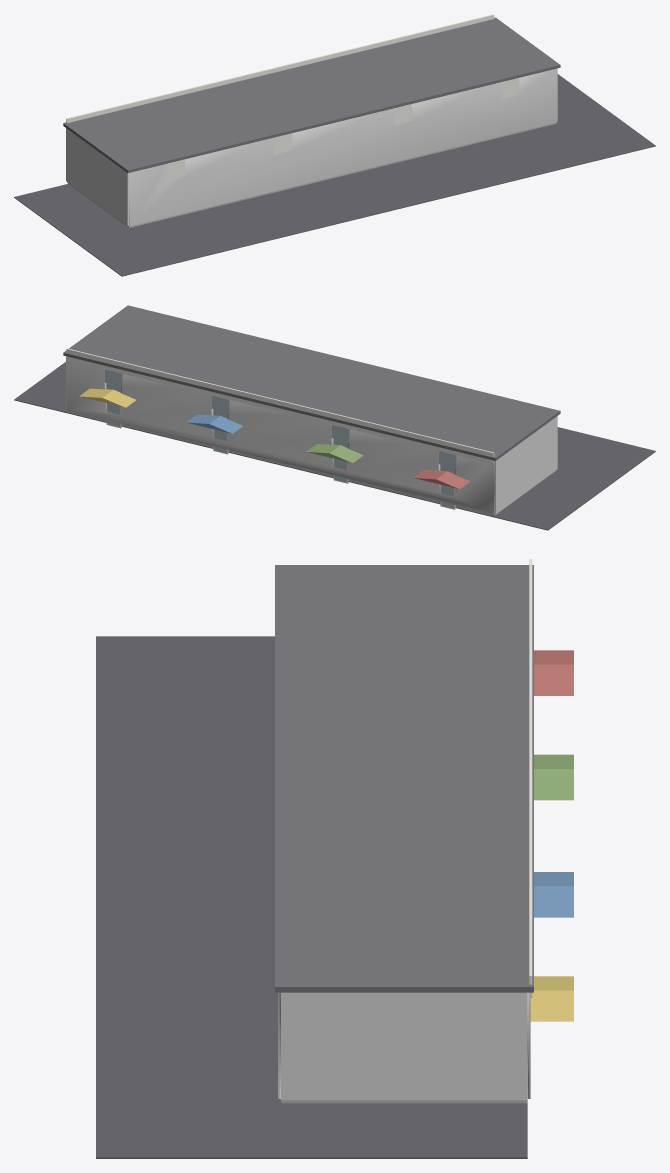
Rendered from strip_mall.glb.
3 renders of one model, top to bottom at view 1: azimuth 30°, elevation 25°; view 2: azimuth 150°, elevation 25°; view 3: azimuth 270°, elevation 25°, orthographic. The views are drawn at different scales.
Parts seen in each view (by area): view 1: parking, roof, back_wall, left_wall, sign_band, foundation; view 2: roof, front_wall, parking, sign_band, left_wall, foundation, awning_3, awning_4, awning_2, awning_1; view 3: roof, parking, right_wall, awning_4, awning_2, awning_1, awning_3, sign_band, foundation.
Part boxes in pixels (x1,y1,x2,y2): parking: (14, 74, 655, 276); roof: (63, 17, 560, 172); back_wall: (129, 68, 556, 226); left_wall: (66, 128, 128, 225); sign_band: (66, 14, 494, 122); foundation: (67, 122, 556, 227); roof: (63, 305, 560, 460); front_wall: (66, 360, 494, 514); parking: (14, 362, 655, 530); sign_band: (66, 348, 494, 464); left_wall: (494, 416, 557, 513); foundation: (67, 410, 556, 515); awning_3: (186, 414, 242, 433); awning_4: (79, 388, 135, 407); awning_2: (306, 444, 363, 462); awning_1: (413, 470, 469, 489); roof: (275, 565, 533, 992); parking: (96, 636, 527, 1158); right_wall: (281, 992, 527, 1100); awning_4: (530, 976, 573, 1021); awning_2: (534, 754, 573, 800); awning_1: (534, 650, 573, 695); awning_3: (534, 872, 573, 917); sign_band: (529, 559, 532, 998); foundation: (281, 1100, 527, 1103).
Bounding box in the file's own units: 40 × 4.8 × 15.5.
